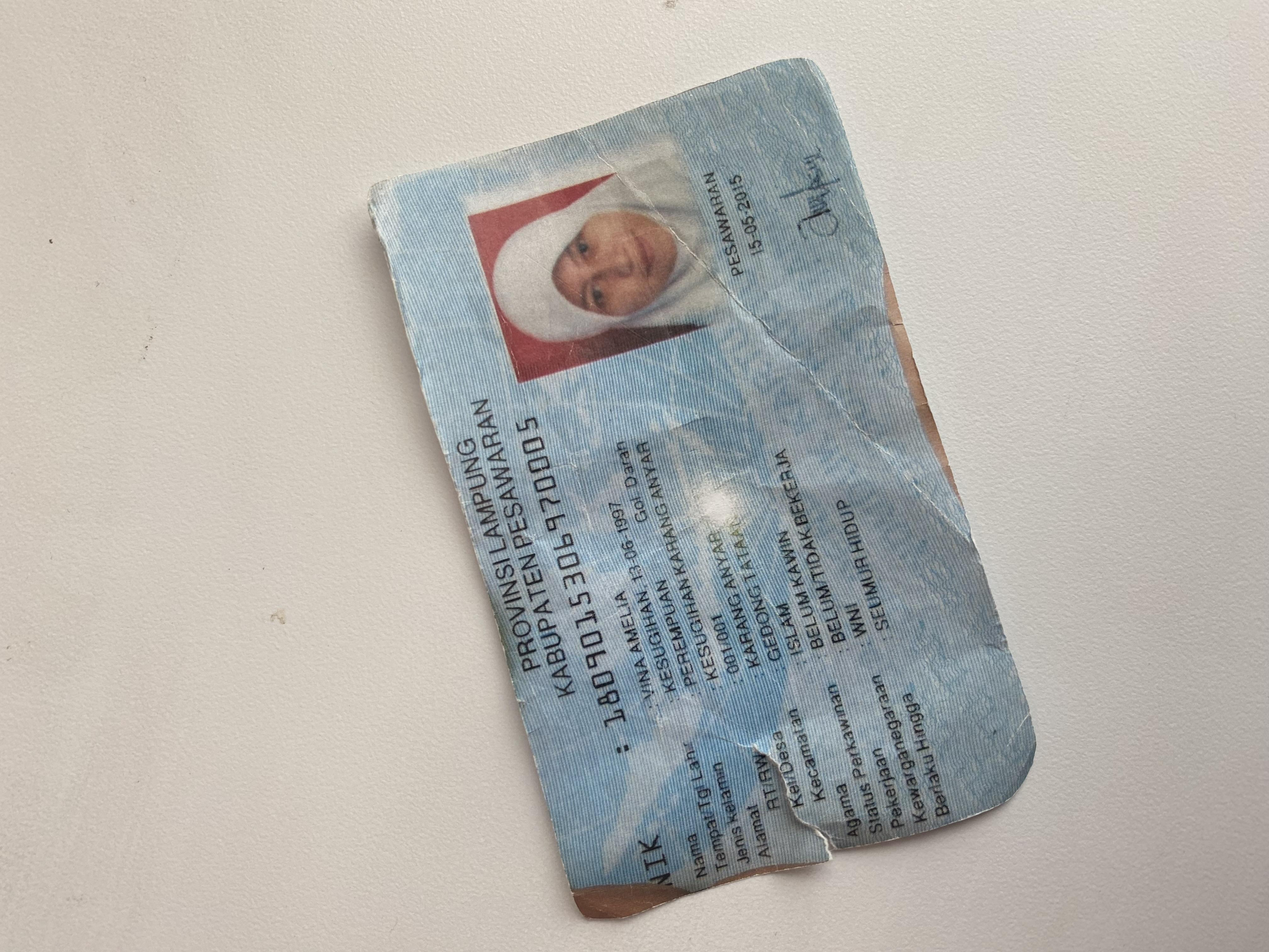ID-card: (22, 259, 1214, 780)
